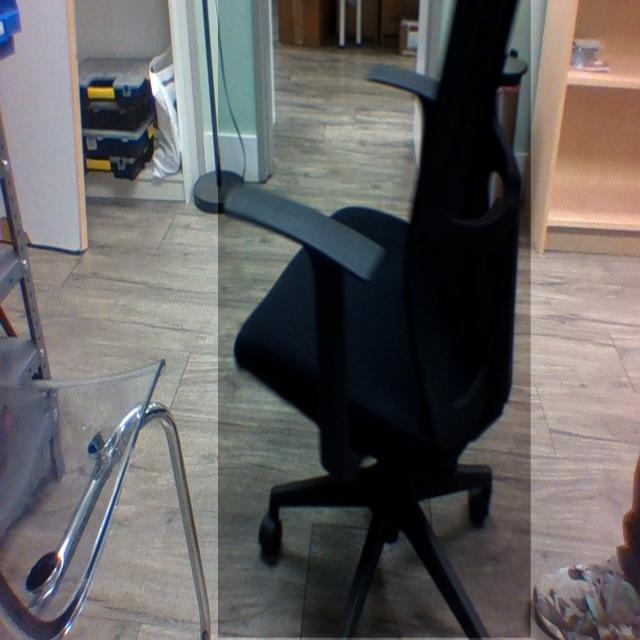black-chair: (218, 0, 532, 639)
